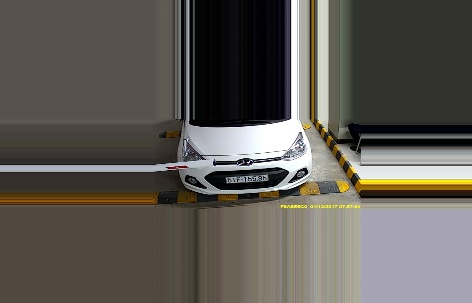plate: (223, 173, 270, 183)
